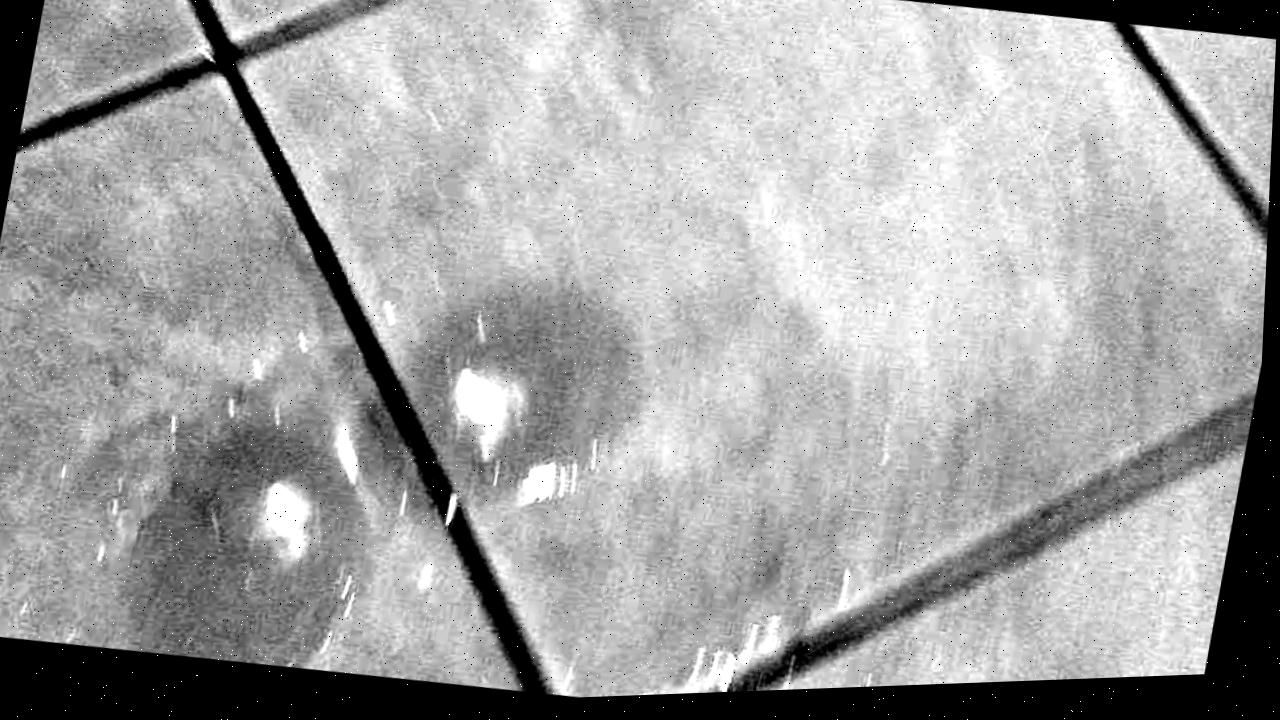drinks Stains: (123, 221, 655, 714)
